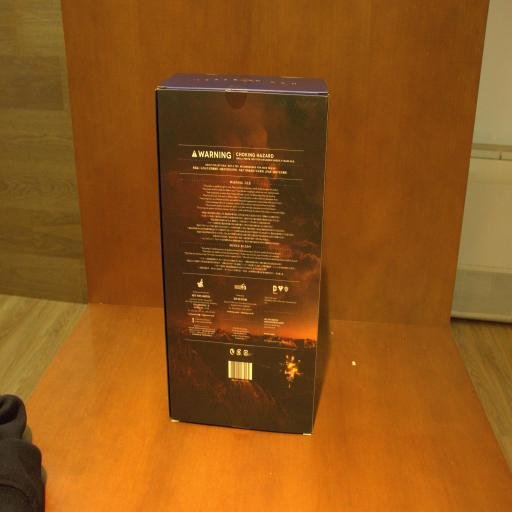superman: (158, 72, 330, 437)
